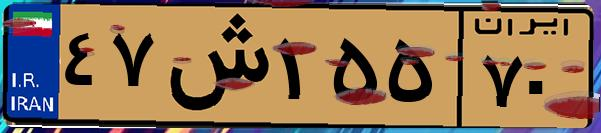0: (525, 38, 570, 115)
1: (270, 28, 330, 110)
4: (57, 26, 110, 100)
5: (385, 28, 445, 110), (330, 28, 385, 110)
7: (475, 38, 525, 113), (110, 28, 158, 98)
ش: (158, 12, 270, 120)
